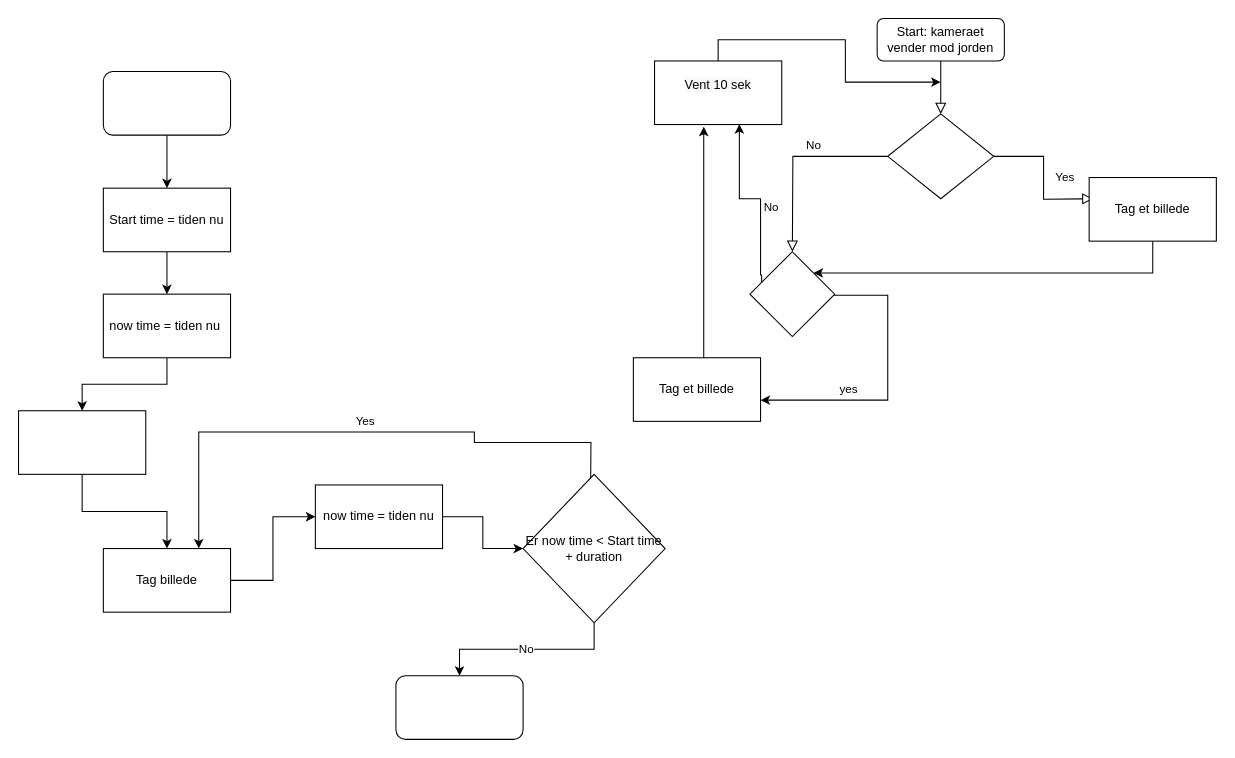
Image size: 1235x758. Some labels were removed from this diagram. The centre of each missing label's shape, as x and y in pixels:
"duration = 10 min" belongs at point (81, 442).
"Over en by?" belongs at point (940, 156).
"Over skov?" belongs at point (792, 294).
"Start" belongs at point (166, 102).
"Stop" belongs at point (459, 707).
